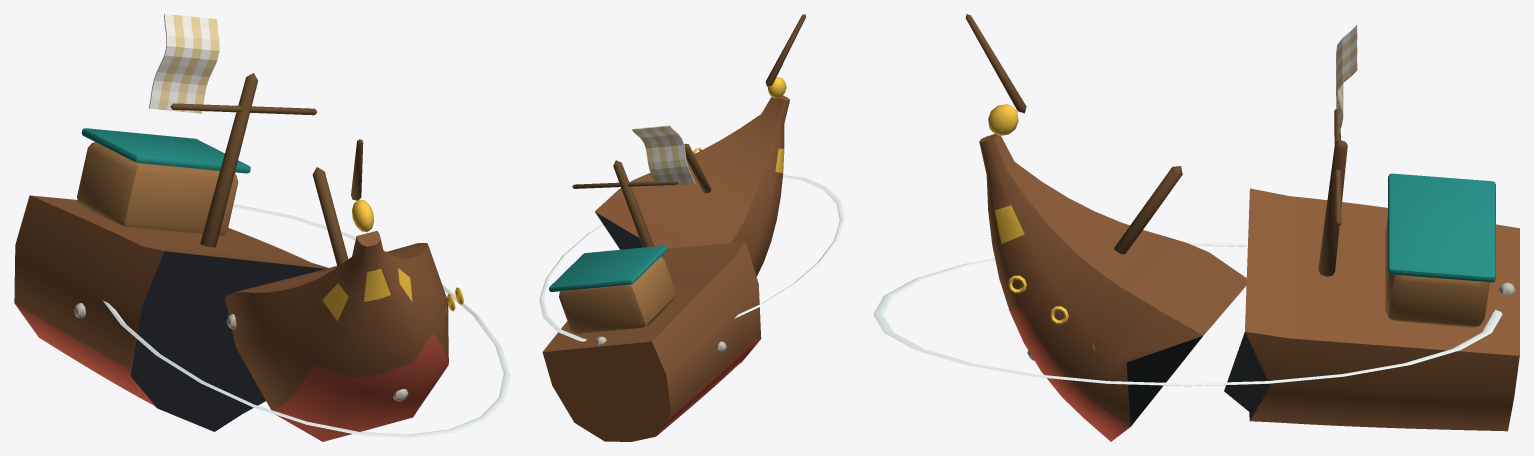
File: W2_Shipwreck.fbx
3 renders of one model, left to right at view 1: azimuth 30°, elevation 25°; view 2: azimuth 150°, elevation 25°; view 3: azimuth 270°, elevation 25°, orthographic. The views are drawn at different scales.
Visible parts, largest first — view 1: Static, Sail; view 2: Static, Sail; view 3: Static, Sail.
Boxes of the visible parts, bbox=[...] form: Static: bbox=[14, 73, 510, 441]; Sail: bbox=[149, 14, 219, 113]; Static: bbox=[539, 14, 844, 441]; Sail: bbox=[631, 125, 695, 187]; Static: bbox=[873, 14, 1519, 441]; Sail: bbox=[1336, 25, 1357, 132].
Size of the model in its own units: 15.65 by 20.81 by 29.87.
